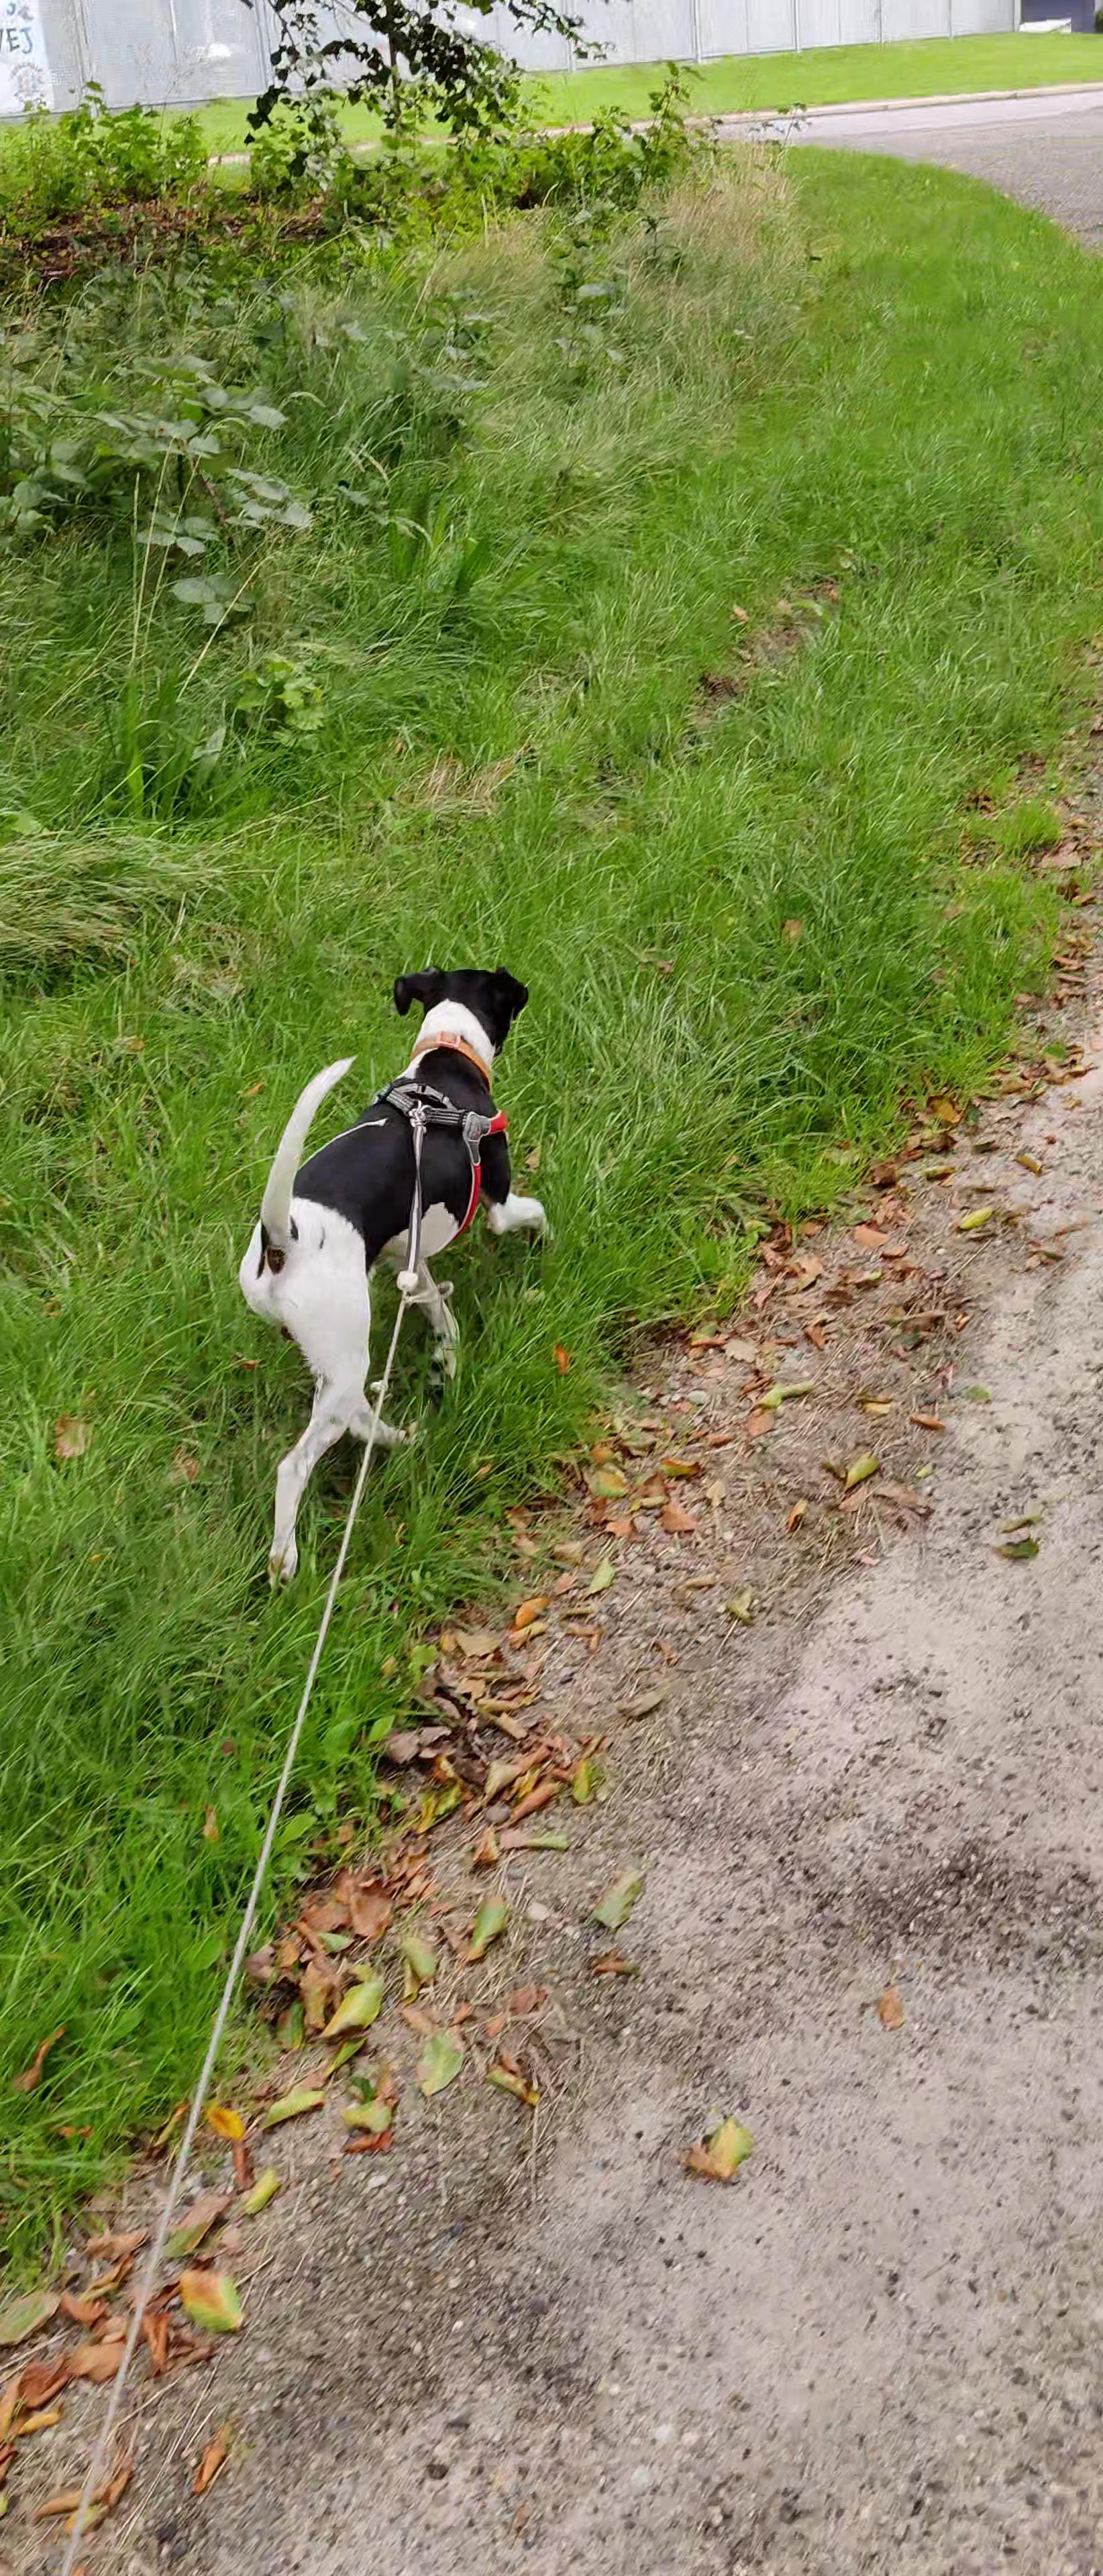Dog: (174, 958, 590, 1600)
